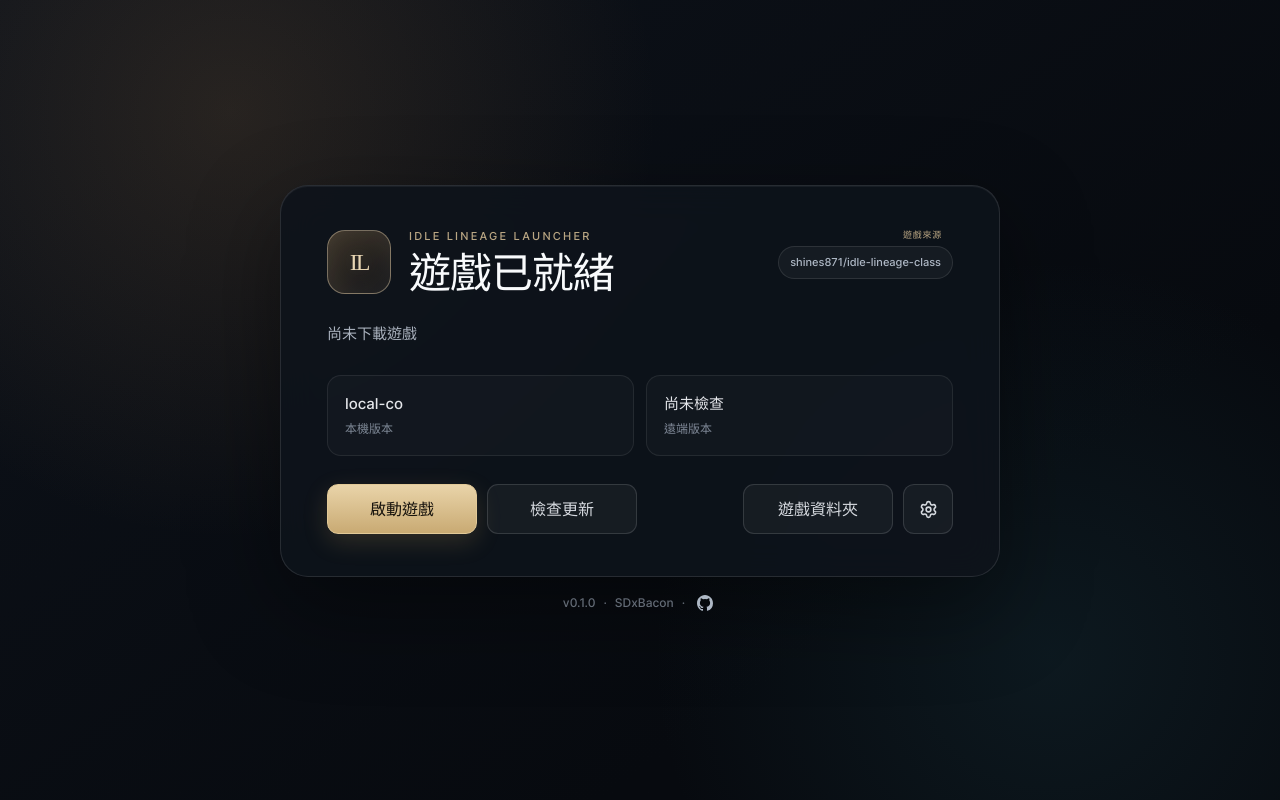
App › keeps action errors across progress events and clears them on the next action
Click the button "啟動遊戲". click: (402, 509)
box: [327,484,477,534]
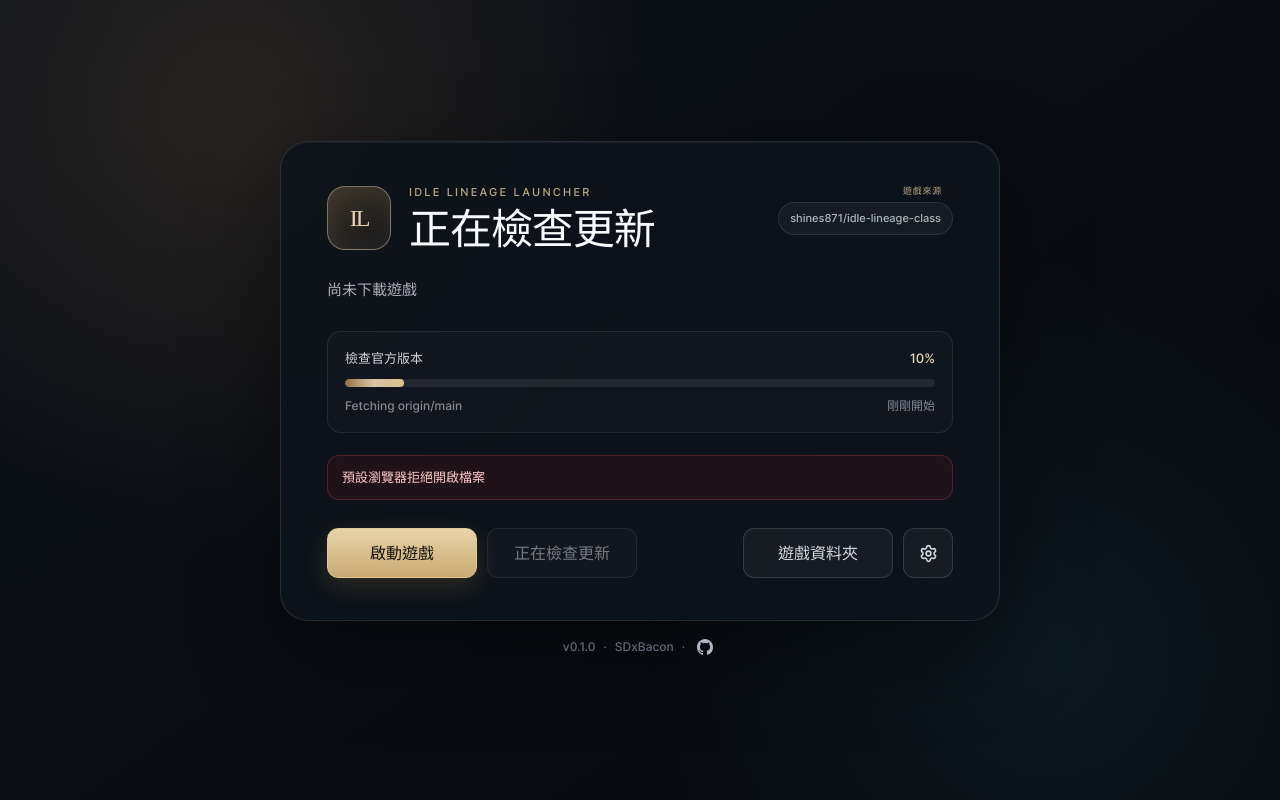
expect the message reads "預設瀏覽器拒絕開啟檔案": met, box [342,469,485,485]
Click the button "啟動遊戲". click: (402, 553)
box: [327,528,477,578]
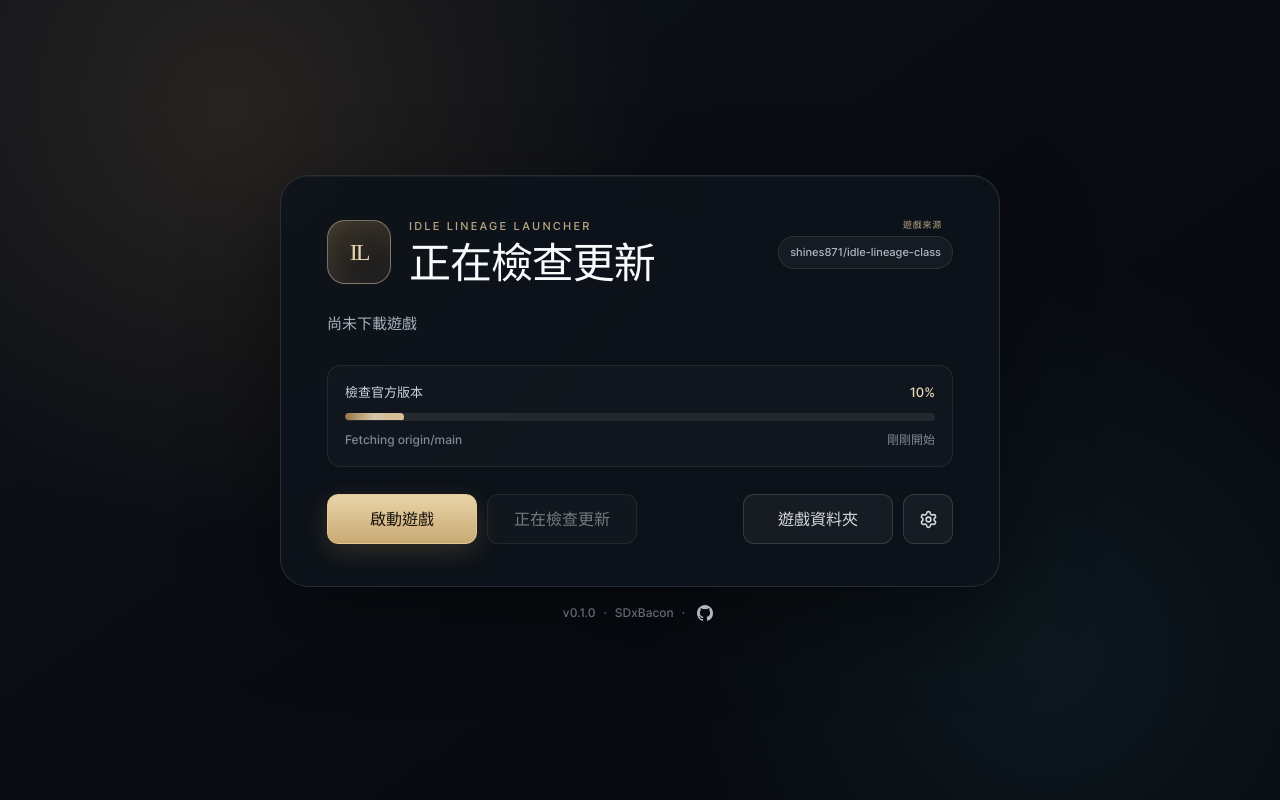
expect the text "預設瀏覽器拒絕開啟檔案" is gone: met
